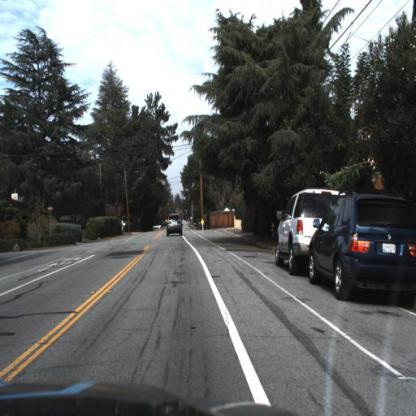car: (306, 184, 414, 302), (270, 177, 312, 285), (160, 208, 185, 244)
